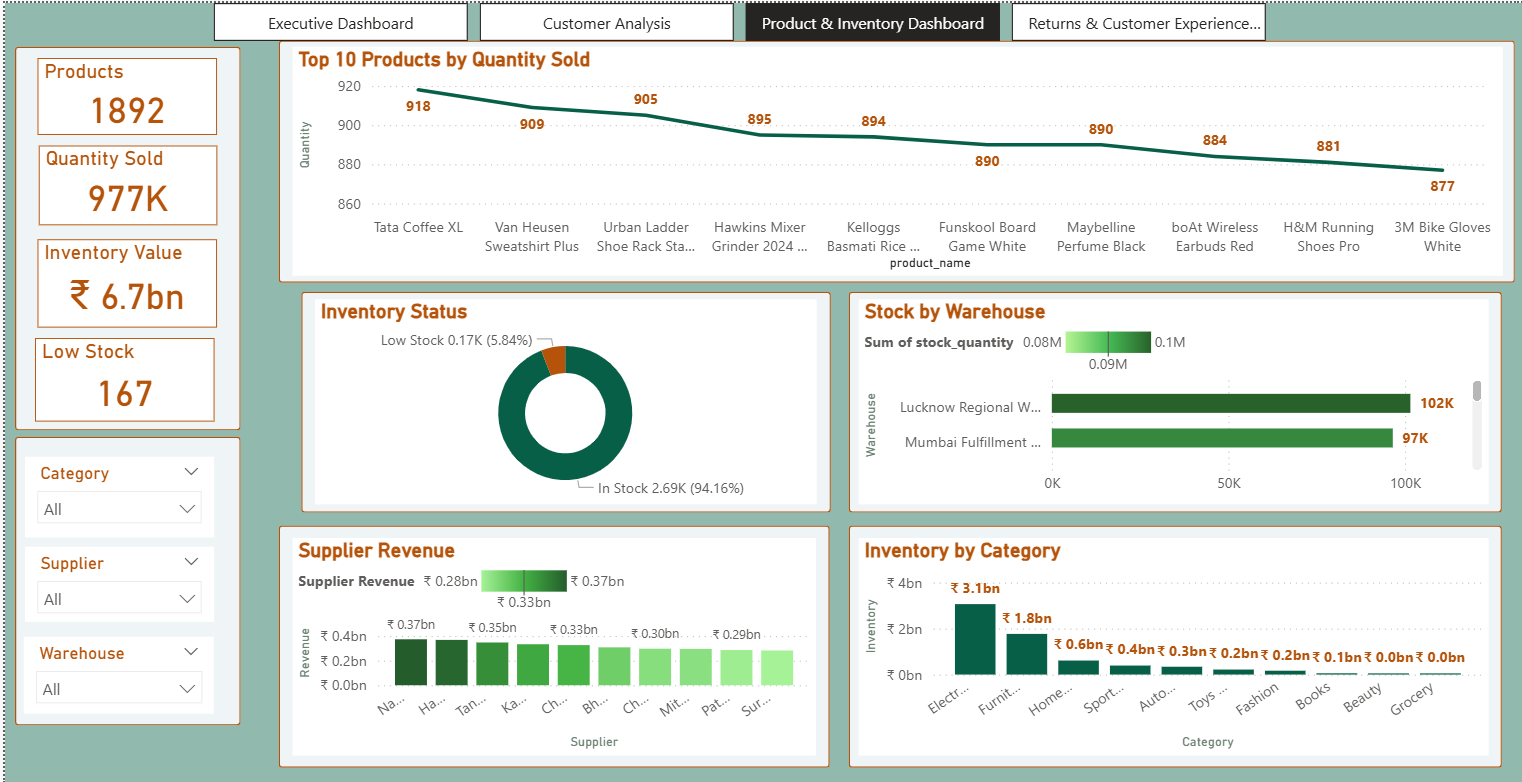

This screenshot's page, from the dashboard's own definition file:
{"tool":"powerbi","page":{"name":"Product & Inventory Dashboard","canvas":[1280,720],"ordinal":2},"visuals":[{"type":"shape","box":[8,365,190,243],"z":0},{"type":"shape","box":[8,37,190,323],"z":1000},{"type":"shape","box":[711,440,550,204],"z":2000},{"type":"shape","box":[231,440,464,204],"z":3000},{"type":"shape","box":[711,243,550,186],"z":4000},{"type":"shape","box":[249,243,446,186],"z":5000},{"type":"shape","box":[231,32,1041,204],"z":6000},{"type":"lineChart","title":"Top 10 Products by Quantity Sold","fields":{"Category":["products.product_name"],"Y":["order_items.Total Quantity Sold"]},"box":[242,37,1019,193],"z":7000},{"type":"donutChart","title":"Inventory Status","fields":{"Category":["inventory.inventory_status"],"Y":["CountNonNull(inventory.inventory_id)"]},"box":[261,249,422,173],"z":8000},{"type":"clusteredBarChart","title":"Stock by Warehouse","fields":{"Category":["warehouses.warehouse_name"],"Y":["Sum(inventory.stock_quantity)"]},"box":[719,249,530,173],"z":9000},{"type":"columnChart","title":"Inventory by Category","fields":{"Category":["categories.category_name"],"Y":["inventory.Inventory Value"]},"box":[719,450,530,183],"z":10000},{"type":"slicer","fields":{"Values":["categories.category_name"]},"box":[17,382,159,68],"z":11000},{"type":"slicer","fields":{"Values":["suppliers.supplier_name"]},"box":[17,458,159,63],"z":12000},{"type":"slicer","fields":{"Values":["warehouses.warehouse_name"]},"box":[16,534,160,65],"z":13000},{"type":"card","title":"Products","fields":{"Values":["products.Total Products"]},"box":[27,46,151,65],"z":14000},{"type":"card","title":"Quantity Sold","fields":{"Values":["order_items.Total Quantity Sold"]},"box":[28,120,150,67],"z":15000},{"type":"card","title":"Inventory Value","fields":{"Values":["inventory.Inventory Value"]},"box":[27,199,151,74],"z":16000},{"type":"card","title":"Low Stock","fields":{"Values":["inventory.Low Stock Products"]},"box":[25,282,151,70],"z":17000},{"type":"columnChart","title":"Supplier Revenue","fields":{"Category":["suppliers.supplier_name"],"Y":["suppliers.Supplier Revenue"]},"box":[242,450,441,183],"z":18000},{"type":"pageNavigator","box":[176,0,889,32],"z":19000}]}

Visuals, with their boxes on the page's 1280x720 design canvas (x1, y1, x2, y2). These are canvas units, not pixel positions in the 1522x782 screenshot, which may show the page scaled, cropped or inside an application window:
shape: BBox(8, 365, 198, 608)
shape: BBox(8, 37, 198, 360)
shape: BBox(711, 440, 1261, 644)
shape: BBox(231, 440, 695, 644)
shape: BBox(711, 243, 1261, 429)
shape: BBox(249, 243, 695, 429)
shape: BBox(231, 32, 1272, 236)
"Top 10 Products by Quantity Sold" lineChart: BBox(242, 37, 1261, 230)
"Inventory Status" donutChart: BBox(261, 249, 683, 422)
"Stock by Warehouse" clusteredBarChart: BBox(719, 249, 1249, 422)
"Inventory by Category" columnChart: BBox(719, 450, 1249, 633)
slicer - categories.category_name: BBox(17, 382, 176, 450)
slicer - suppliers.supplier_name: BBox(17, 458, 176, 521)
slicer - warehouses.warehouse_name: BBox(16, 534, 176, 599)
"Products" card: BBox(27, 46, 178, 111)
"Quantity Sold" card: BBox(28, 120, 178, 187)
"Inventory Value" card: BBox(27, 199, 178, 273)
"Low Stock" card: BBox(25, 282, 176, 352)
"Supplier Revenue" columnChart: BBox(242, 450, 683, 633)
pageNavigator: BBox(176, 0, 1065, 32)
